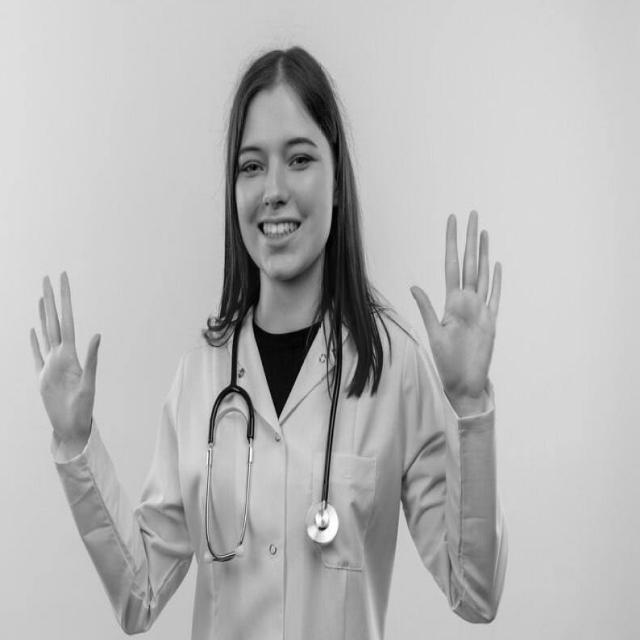stop: (406, 205, 507, 404), (26, 264, 105, 451)
